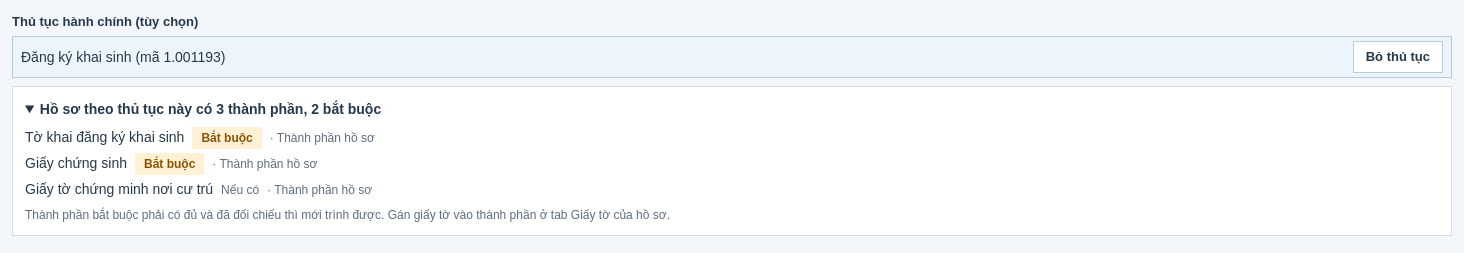
Scenario: ProcedurePicker › bỏ thủ tục thì báo null và quay về ô tìm
The width and height of the screenshot is (1464, 253).
Click the button "Bỏ thủ tục" at (1398, 57), box [1353,41,1443,73]
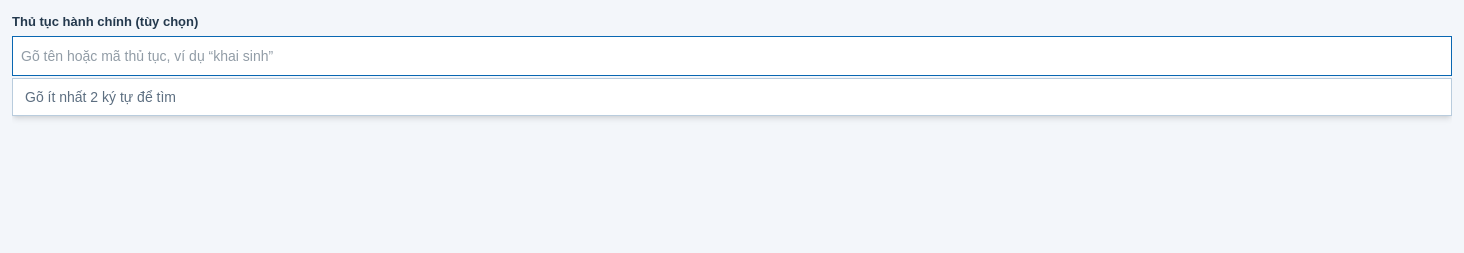
Check: the dropdown is shown, box [12,36,1452,76]
